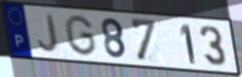1: (178, 23, 197, 65)
3: (199, 25, 229, 68)
7: (128, 16, 160, 63)
8: (100, 16, 129, 60)
G: (63, 13, 99, 58)
J: (36, 12, 60, 54)
